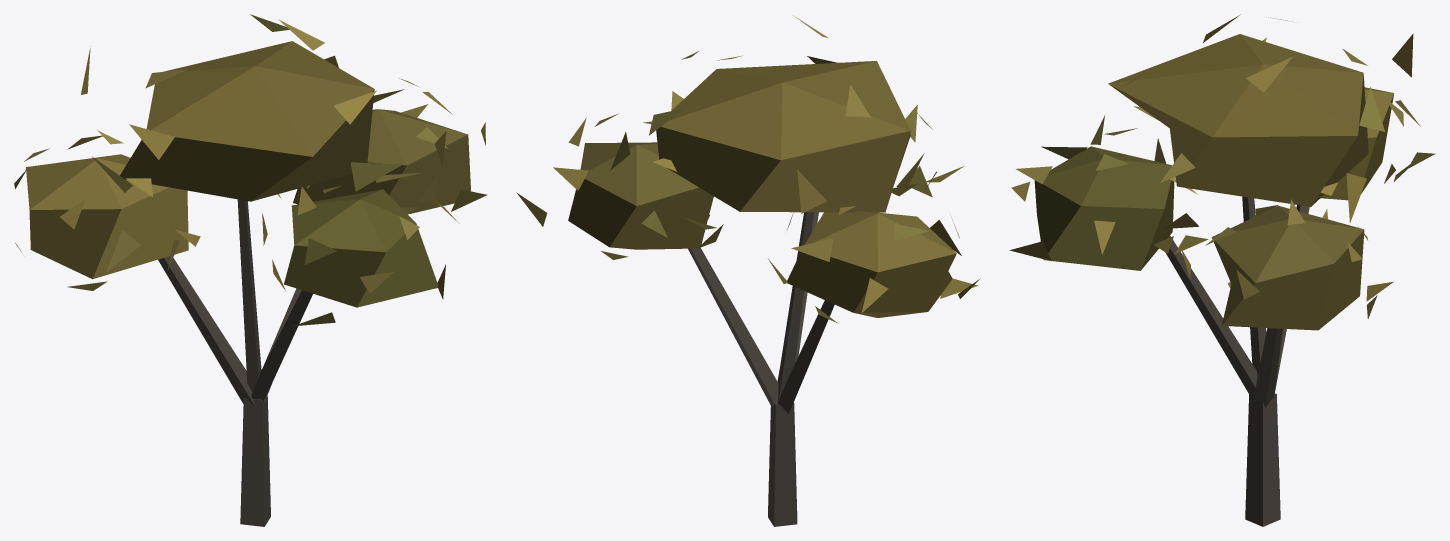
File: elm-lite.glb
3 renders of one model, left to right at view 1: azimuth 30°, elevation 25°; view 2: azimuth 150°, elevation 25°; view 3: azimuth 270°, elevation 25°, orthographic. The views are drawn at different scales.
Parts seen in each view (by area): view 1: elm-lite / foliage-core, elm-lite / wood, elm-lite / foliage; view 2: elm-lite / foliage-core, elm-lite / wood, elm-lite / foliage; view 3: elm-lite / foliage-core, elm-lite / wood, elm-lite / foliage.
Part boxes in pixels (x1,y1,x2,y2): elm-lite / foliage-core: (26, 41, 470, 307); elm-lite / wood: (158, 199, 312, 526); elm-lite / foliage: (14, 14, 487, 326); elm-lite / foliage-core: (568, 61, 956, 317); elm-lite / wood: (688, 212, 834, 526); elm-lite / foliage: (516, 15, 980, 323); elm-lite / foliage-core: (1034, 34, 1394, 330); elm-lite / wood: (1165, 196, 1309, 526); elm-lite / foliage: (1009, 14, 1435, 334).
Size of the model in its own units: 10.46 by 10.76 by 8.64.
